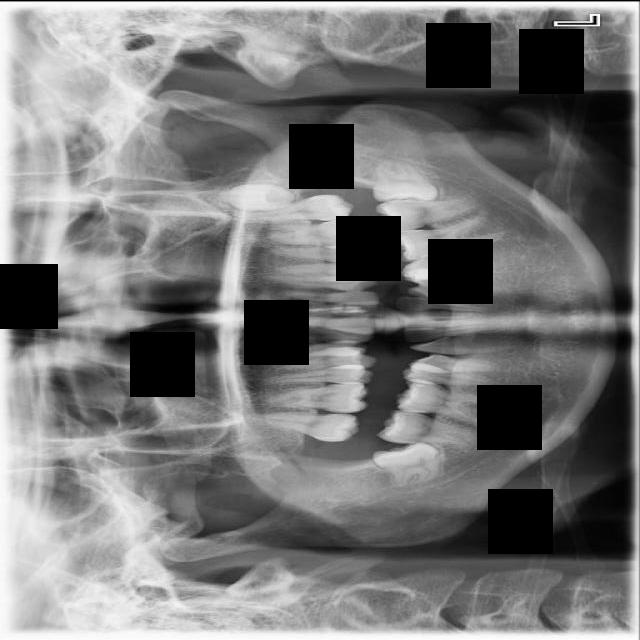73: (298, 304, 334, 313), (589, 59, 603, 63)
BioHorizons Implant: (242, 193, 354, 221)
BioLife Implant: (221, 183, 295, 210)
Biomet 3i Implant: (371, 158, 439, 202)
Blue Sky Bio Implant: (375, 195, 479, 233)
Caries: (251, 413, 361, 442)
Implant: (376, 406, 482, 450)
Keystone Dental Implant: (371, 435, 445, 494)
